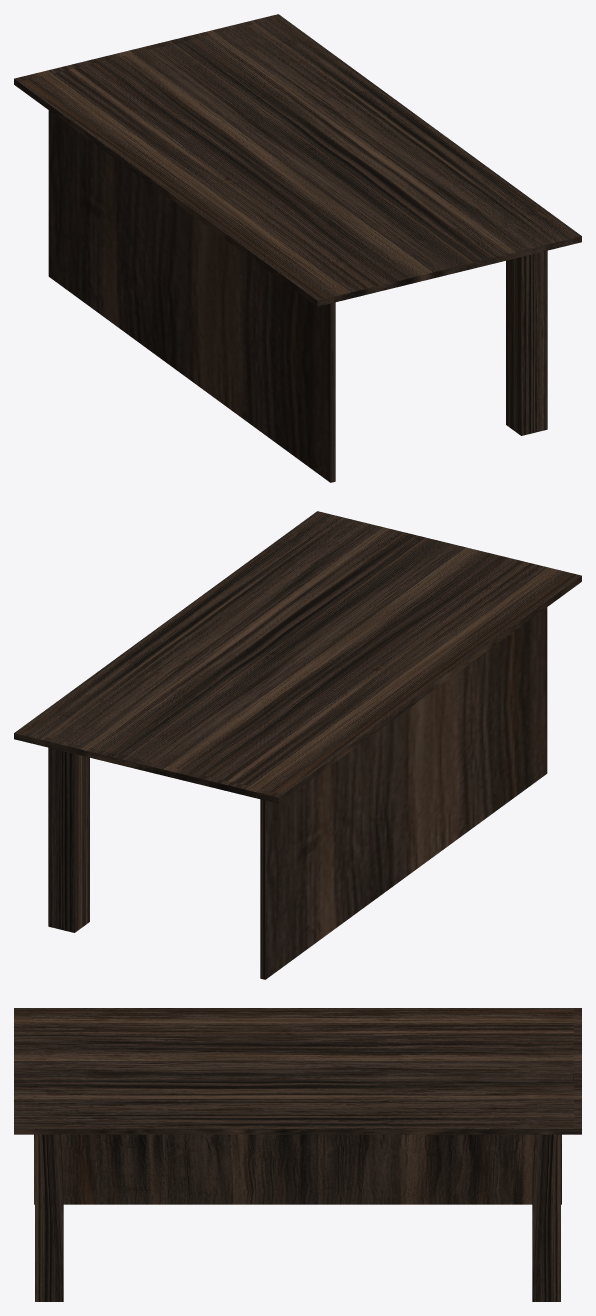
File: desk_texture.fbx
3 views of the same model, one above another, from view 1: azimuth 30°, elevation 25°; view 2: azimuth 150°, elevation 25°; view 3: azimuth 270°, elevation 25° (orthographic). The views are drawn at different scales.
Visible parts, largest first — view 1: deskboard, backboard, leg; view 2: deskboard, backboard, leg; view 3: deskboard, backboard, leg.
Boxes of the visible parts, x1=… form: deskboard: x1=14, y1=14, x2=581, y2=306; backboard: x1=48, y1=110, x2=335, y2=482; leg: x1=506, y1=250, x2=547, y2=435; deskboard: x1=14, y1=511, x2=581, y2=803; backboard: x1=260, y1=607, x2=547, y2=979; leg: x1=48, y1=747, x2=89, y2=932; deskboard: x1=14, y1=1008, x2=581, y2=1134; backboard: x1=34, y1=1134, x2=561, y2=1204; leg: x1=35, y1=1134, x2=560, y2=1301.
Size of the model in its own units: 100 by 70.78 by 199.
Materials: 1 (1 with a texture image).
